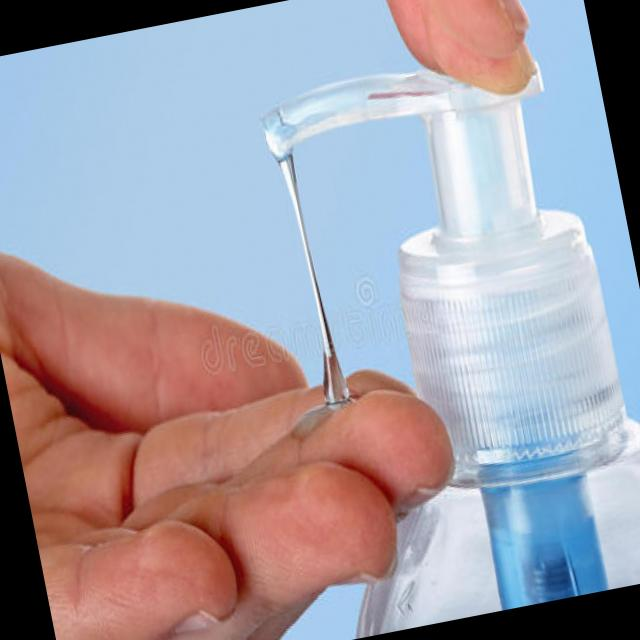sanitizer: (246, 32, 640, 632)
